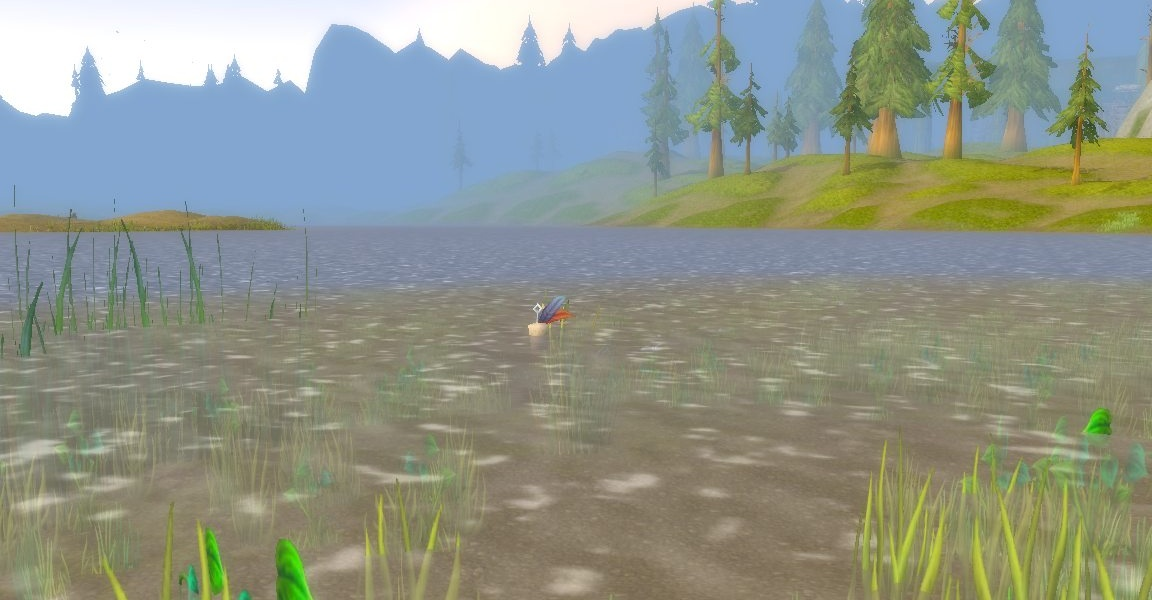Bobber: (526, 294, 576, 339)
